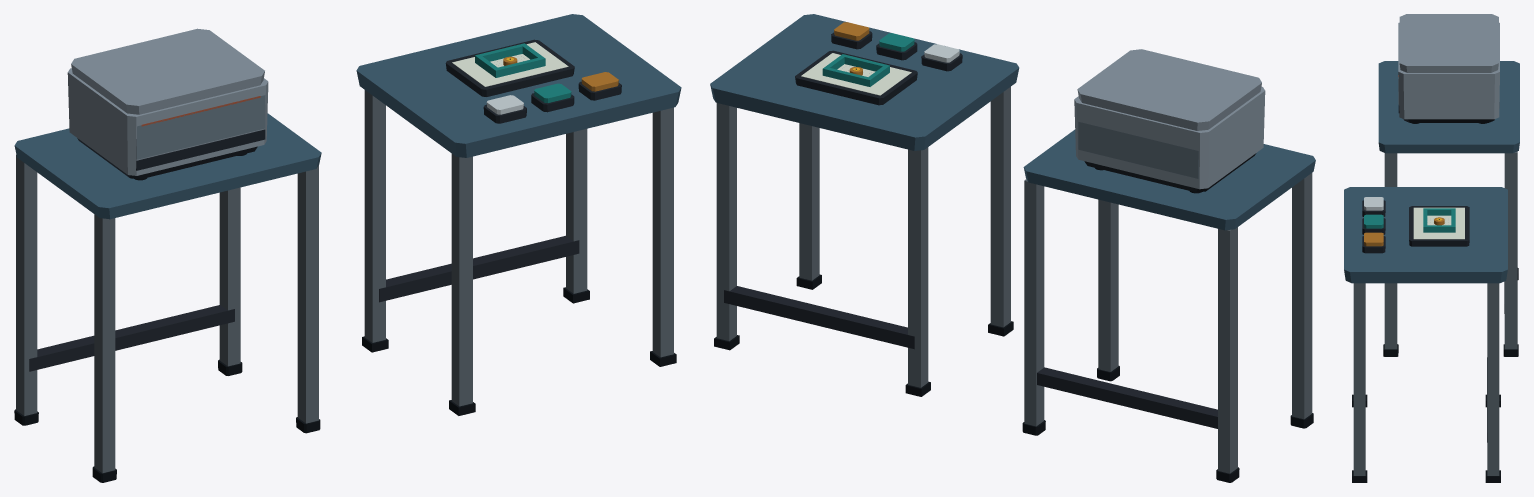
The model's file is concept-cabinet-dry-gauge.glb.
3 views of the same model, side by side, from view 1: azimuth 30°, elevation 25°; view 2: azimuth 150°, elevation 25°; view 3: azimuth 270°, elevation 25° (orthographic). The views are drawn at different scales.
Visible parts, largest first — view 1: exhibit_desk, concept_stand, concept_case, gauge_board, select_touch, select_overrun, select_center; view 2: exhibit_desk, concept_stand, concept_case, gauge_board, select_touch, select_center, select_overrun; view 3: exhibit_desk, concept_stand, concept_case, gauge_board, select_overrun, select_touch, select_center, rail_right, rail_left.
Part boxes in pixels (bbox=[...]): exhibit_desk: bbox=[356, 14, 681, 415]; concept_stand: bbox=[14, 113, 321, 482]; concept_case: bbox=[67, 28, 268, 180]; gauge_board: bbox=[445, 39, 574, 96]; select_touch: bbox=[531, 83, 574, 112]; select_overrun: bbox=[578, 72, 621, 100]; select_center: bbox=[483, 95, 526, 123]; exhibit_desk: bbox=[710, 14, 1019, 396]; concept_stand: bbox=[1022, 129, 1315, 482]; concept_case: bbox=[1074, 49, 1265, 193]; gauge_board: bbox=[795, 50, 917, 105]; select_touch: bbox=[876, 33, 917, 60]; select_center: bbox=[921, 44, 962, 71]; select_overrun: bbox=[831, 22, 872, 49]; exhibit_desk: bbox=[1344, 187, 1507, 482]; concept_stand: bbox=[1378, 61, 1519, 356]; concept_case: bbox=[1398, 14, 1499, 123]; gauge_board: bbox=[1409, 206, 1469, 246]; select_overrun: bbox=[1362, 232, 1385, 253]; select_touch: bbox=[1362, 214, 1385, 234]; select_center: bbox=[1362, 197, 1385, 216]; rail_right: bbox=[1423, 225, 1455, 232]; rail_left: bbox=[1423, 208, 1455, 215].
Bounding box in the file's own units: 1.67 × 1.02 × 0.5885.
